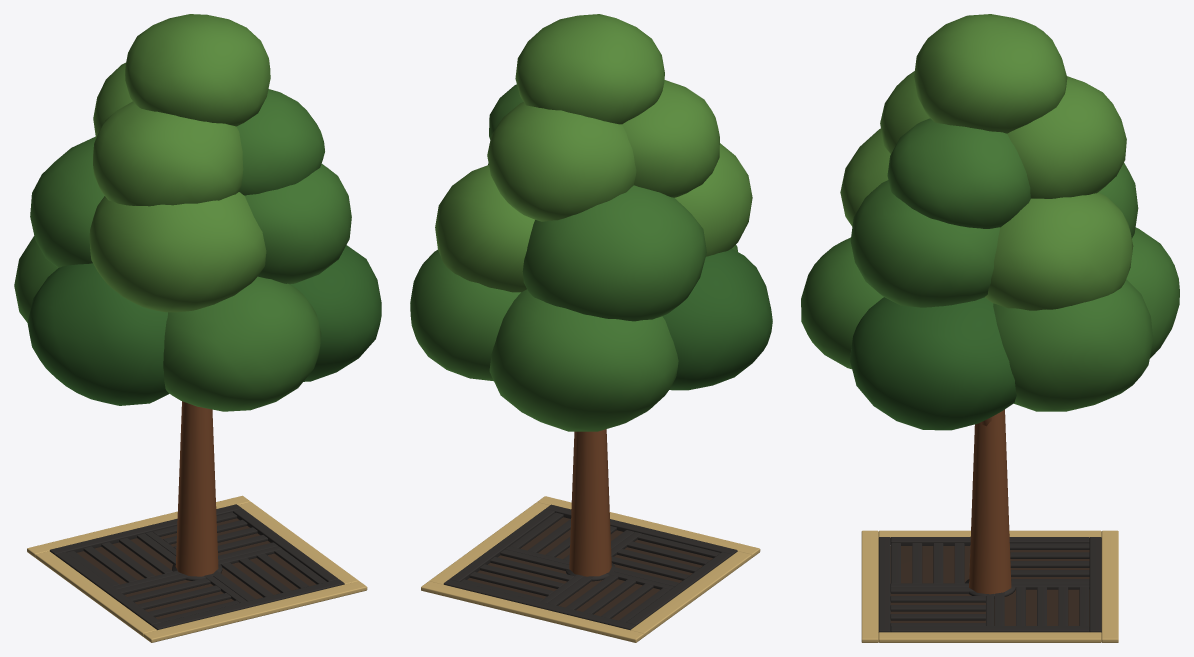
The model's file is street_tree.glb.
3 renders of one model, left to right at view 1: azimuth 30°, elevation 25°; view 2: azimuth 150°, elevation 25°; view 3: azimuth 270°, elevation 25°, orthographic. The views are drawn at different scales.
Parts seen in each view (by area): view 1: Crown10, Crown02, Crown01, Crown30, Crown20, Crown11, Crown03, Crown13, Crown21, Trunk, PitSoil, PitKerb1 (+14 smaller); view 2: Crown00, Crown13, Crown22, Crown30, Crown01, Crown12, Crown04, Crown20, Trunk, Crown10, PitSoil, PitKerb0 (+18 smaller); view 3: Crown03, Crown04, Crown30, Crown12, Crown11, Crown21, Crown22, Trunk, Crown02, PitSoil, Crown00, Crown10 (+19 smaller).
Boxes of the visible parts, x1,y1,x2,y2 form: Crown10: (89,192,266,312); Crown02: (163,276,321,411); Crown01: (27,263,169,405); Crown30: (125,14,270,126); Crown20: (93,101,243,206); Crown11: (245,164,351,284); Crown03: (290,245,381,381); Crown13: (30,136,104,267); Crown21: (236,89,324,195); Trunk: (175,401,218,576); PitSoil: (77,518,316,619); PitKerb1: (143,581,367,642); Crown00: (489,289,678,431); Crown13: (522,185,706,321); Crown22: (487,102,636,221); Crown30: (515,14,664,124); Crown01: (662,248,772,390); Crown12: (435,165,534,292); Crown04: (410,249,520,381); Crown20: (622,80,719,197); Trunk: (569,429,611,576); Crown10: (675,143,752,256); PitSoil: (467,517,712,620); PitKerb0: (421,581,643,642); Crown03: (850,297,1016,430); Crown04: (993,279,1153,411); Crown30: (914,14,1067,133); Crown12: (985,192,1133,310); Crown11: (850,180,1000,307); Crown21: (887,118,1030,228); Crown22: (1007,76,1126,198); Trunk: (969,409,1011,594); Crown02: (801,237,883,369); PitSoil: (890,546,1089,626); Crown00: (1126,227,1179,358); Crown10: (840,128,890,226).
Bounding box in the file's own units: 2.2 × 3.64 × 2.21.
